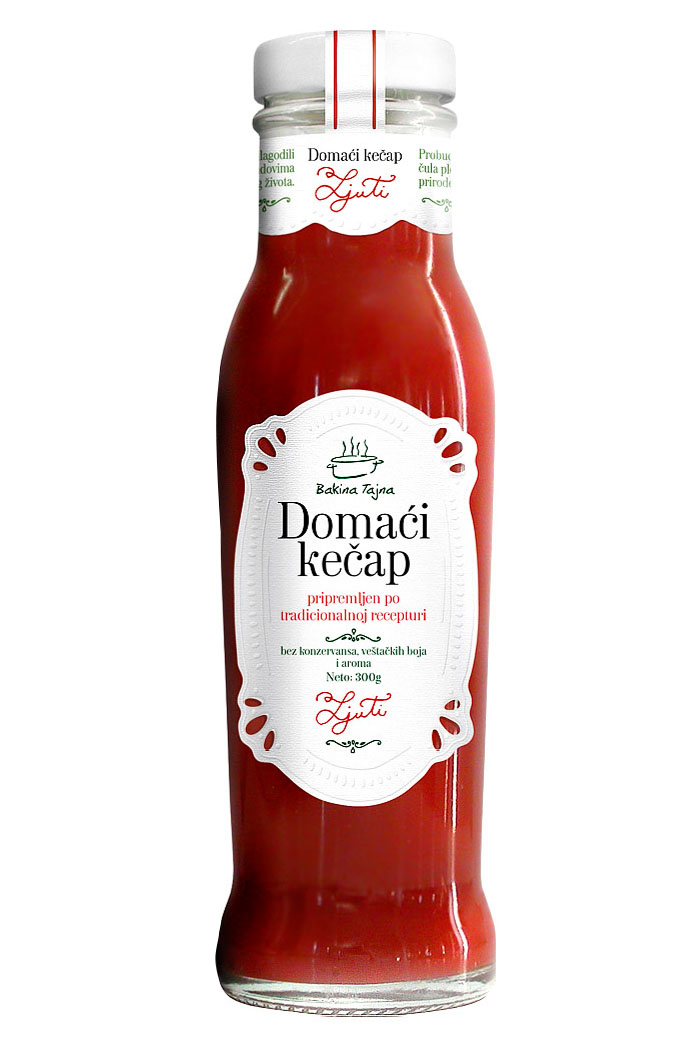glass_bottle: (206, 18, 513, 1026)
